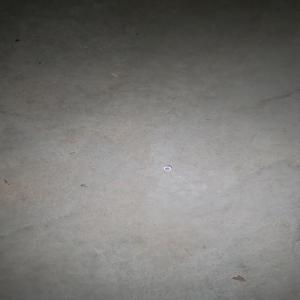Nut: (162, 165, 171, 170)
